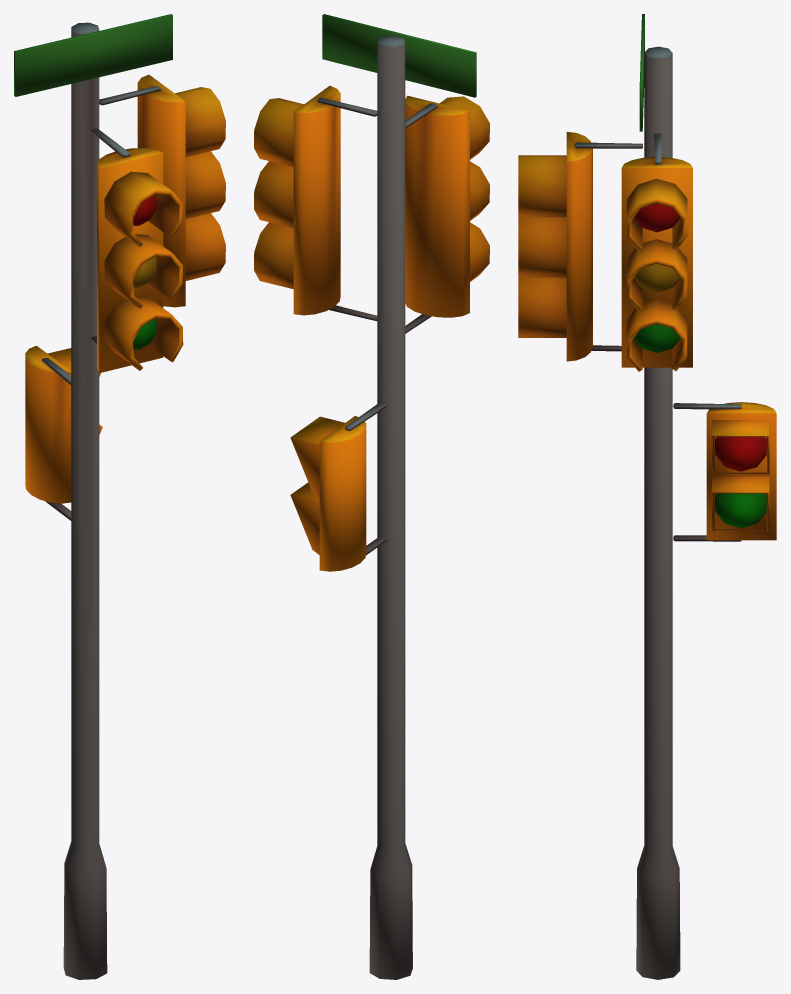
The picture shows the model from 3 angles, left to right: view 1: azimuth 30°, elevation 25°; view 2: azimuth 150°, elevation 25°; view 3: azimuth 270°, elevation 25°; orthographic projection. The views are drawn at different scales.
Parts seen in each view (by area): view 1: base.035; view 2: base.035; view 3: base.035.
Boxes of the visible parts, left/top/right/bottom form: base.035: left=14, top=14, right=225, bottom=979; base.035: left=254, top=14, right=489, bottom=979; base.035: left=518, top=14, right=776, bottom=979.
Size of the model in its own units: 0.1122 by 0.5 by 0.1274.
